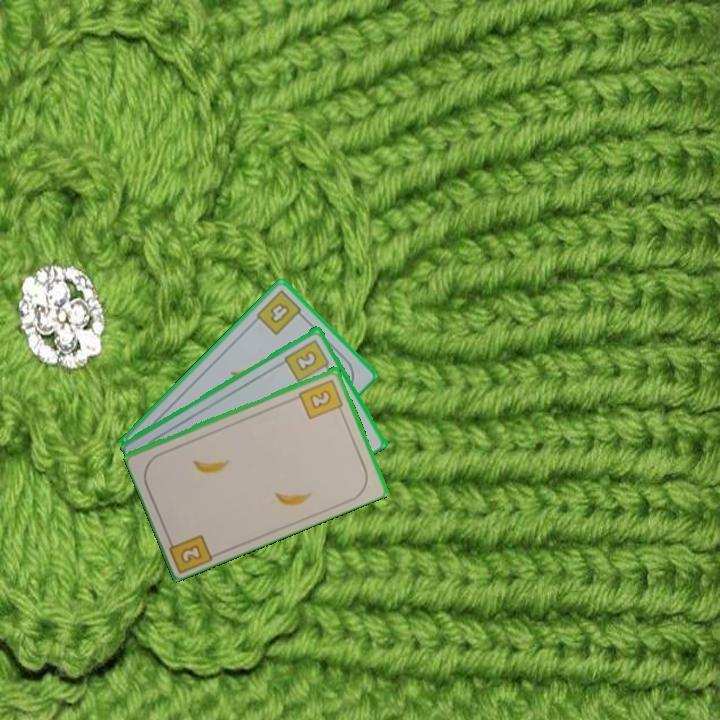2b: (281, 336, 334, 384), (296, 375, 346, 422), (163, 531, 217, 574)
4b: (252, 286, 308, 338)
